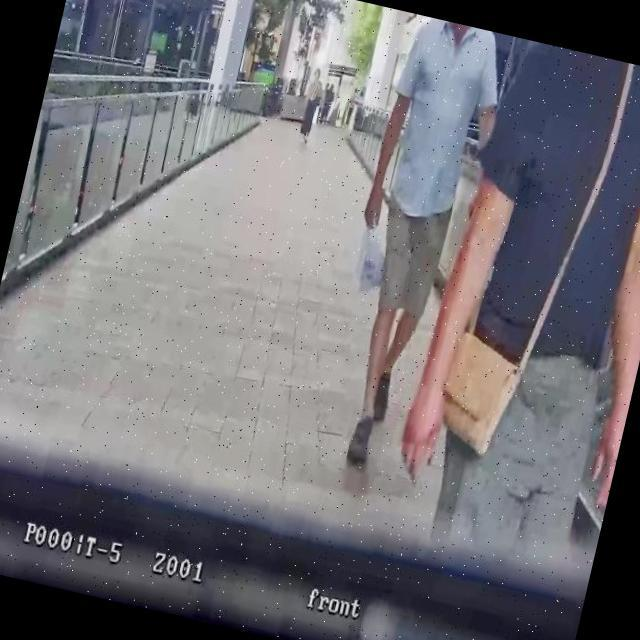person: (383, 31, 640, 555), (307, 12, 514, 478), (296, 67, 327, 142), (316, 80, 337, 126)
